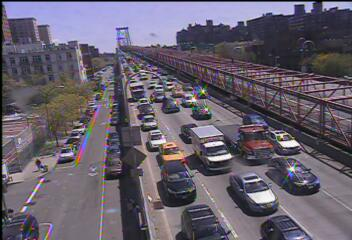neg: (272, 144, 306, 190), (107, 24, 131, 56), (308, 38, 332, 70), (160, 159, 184, 190), (15, 56, 38, 87), (246, 76, 268, 105), (290, 88, 311, 117), (228, 154, 249, 183), (246, 39, 267, 67), (83, 108, 103, 135), (190, 44, 210, 71), (178, 98, 198, 124), (45, 186, 65, 212), (209, 78, 228, 104), (70, 73, 88, 98), (126, 98, 144, 122), (102, 176, 119, 198), (158, 48, 172, 67), (67, 37, 81, 55)
pos: (33, 156, 44, 171)
